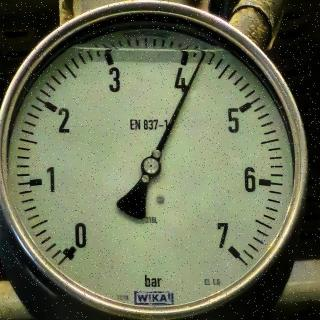gauge: (0, 0, 320, 320), (206, 220, 250, 268), (54, 230, 88, 266), (139, 155, 161, 177), (196, 49, 208, 63)
